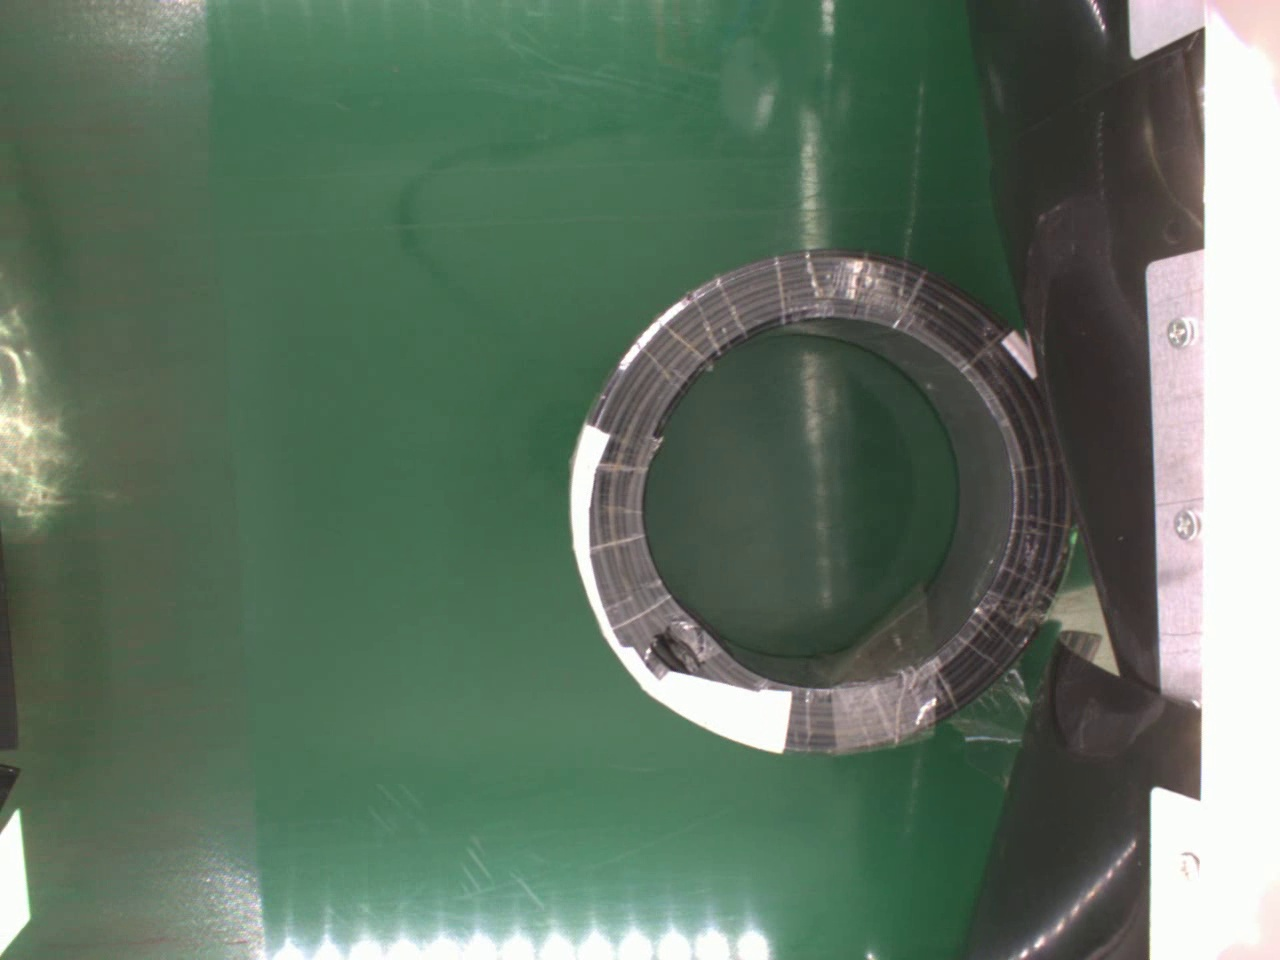black: (557, 243, 1079, 759)
